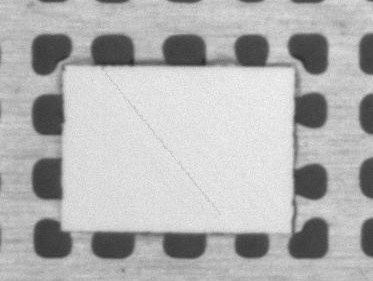DIE_CRACK: (133, 50, 292, 161)
